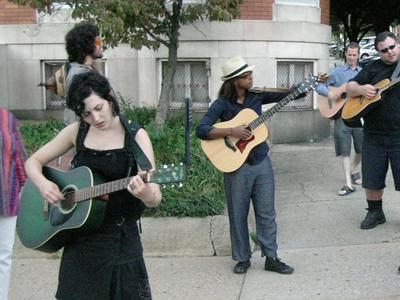person: (25, 71, 162, 299)
